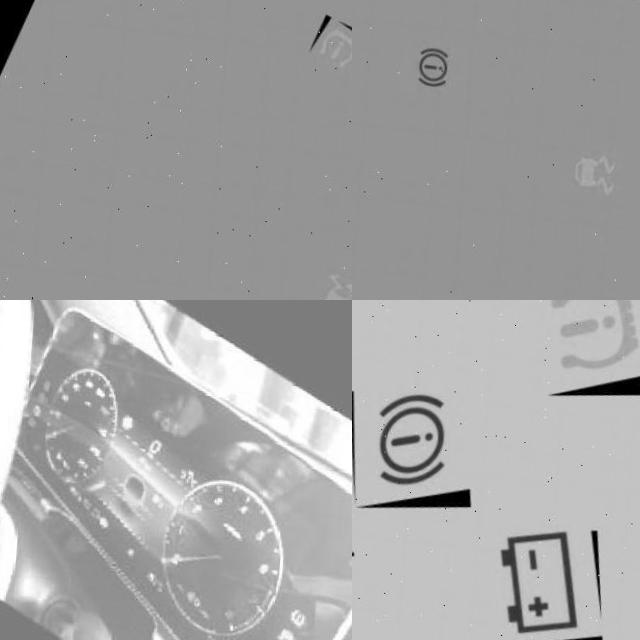Low fuel level: (54, 446, 60, 454)
